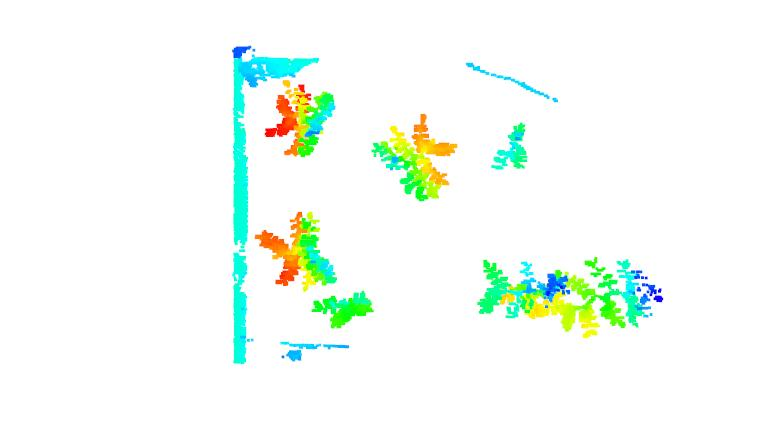chickpea: (561, 255, 667, 340), (374, 114, 457, 201), (254, 207, 336, 293), (474, 256, 566, 324), (263, 79, 337, 159), (310, 291, 376, 330), (486, 122, 531, 173)
